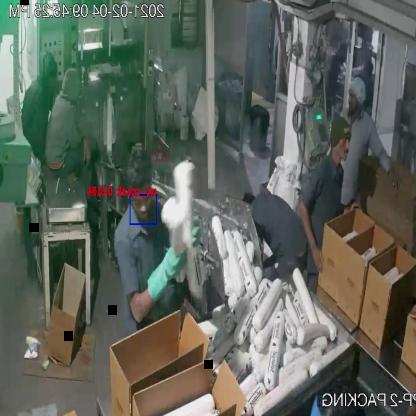glove: (121, 238, 190, 330)
no_glove: (291, 189, 330, 294), (361, 131, 406, 191), (334, 192, 365, 223), (410, 295, 416, 322)
